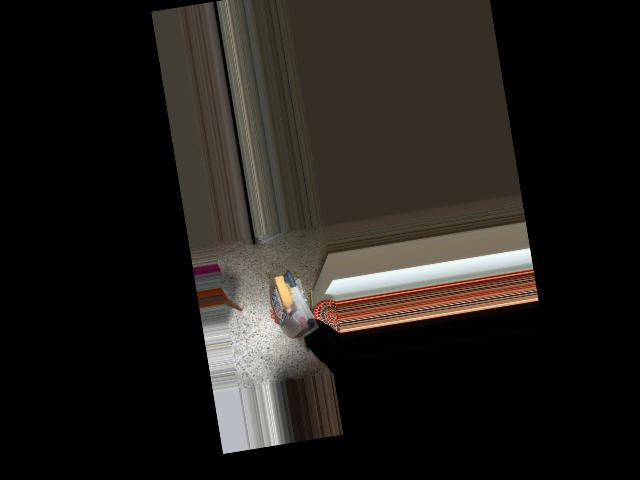cheese: (265, 264, 325, 341)
